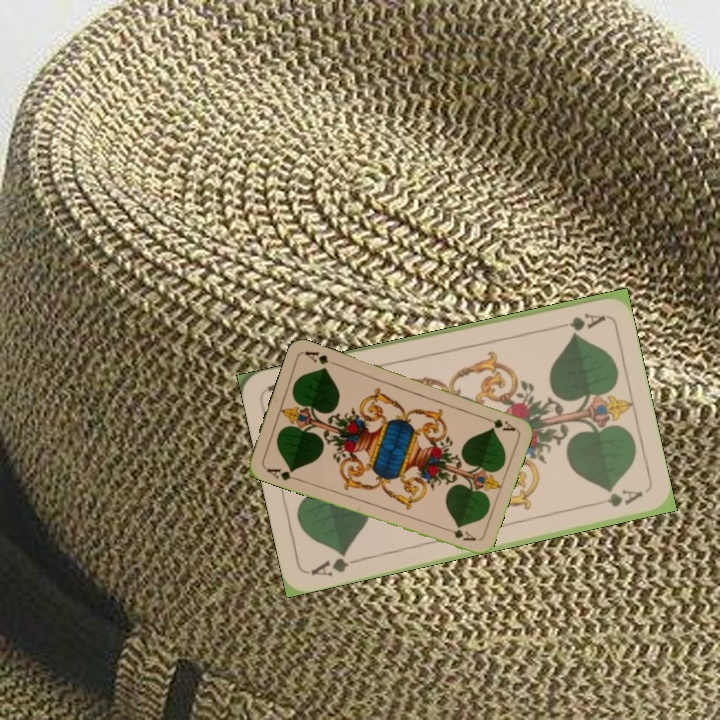GA: (307, 548, 364, 580), (548, 309, 607, 334), (479, 412, 518, 434), (261, 462, 301, 483)
